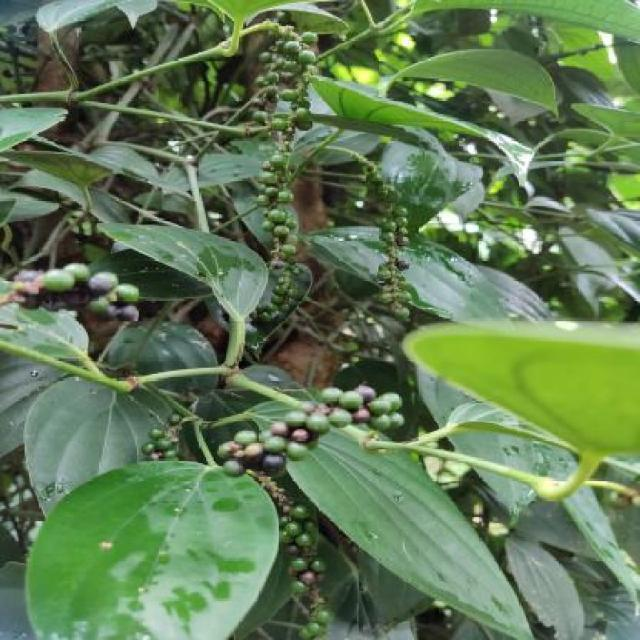UNRIPE: (252, 53, 325, 299), (215, 376, 399, 458), (8, 258, 170, 344), (367, 182, 422, 313), (277, 517, 332, 638)
